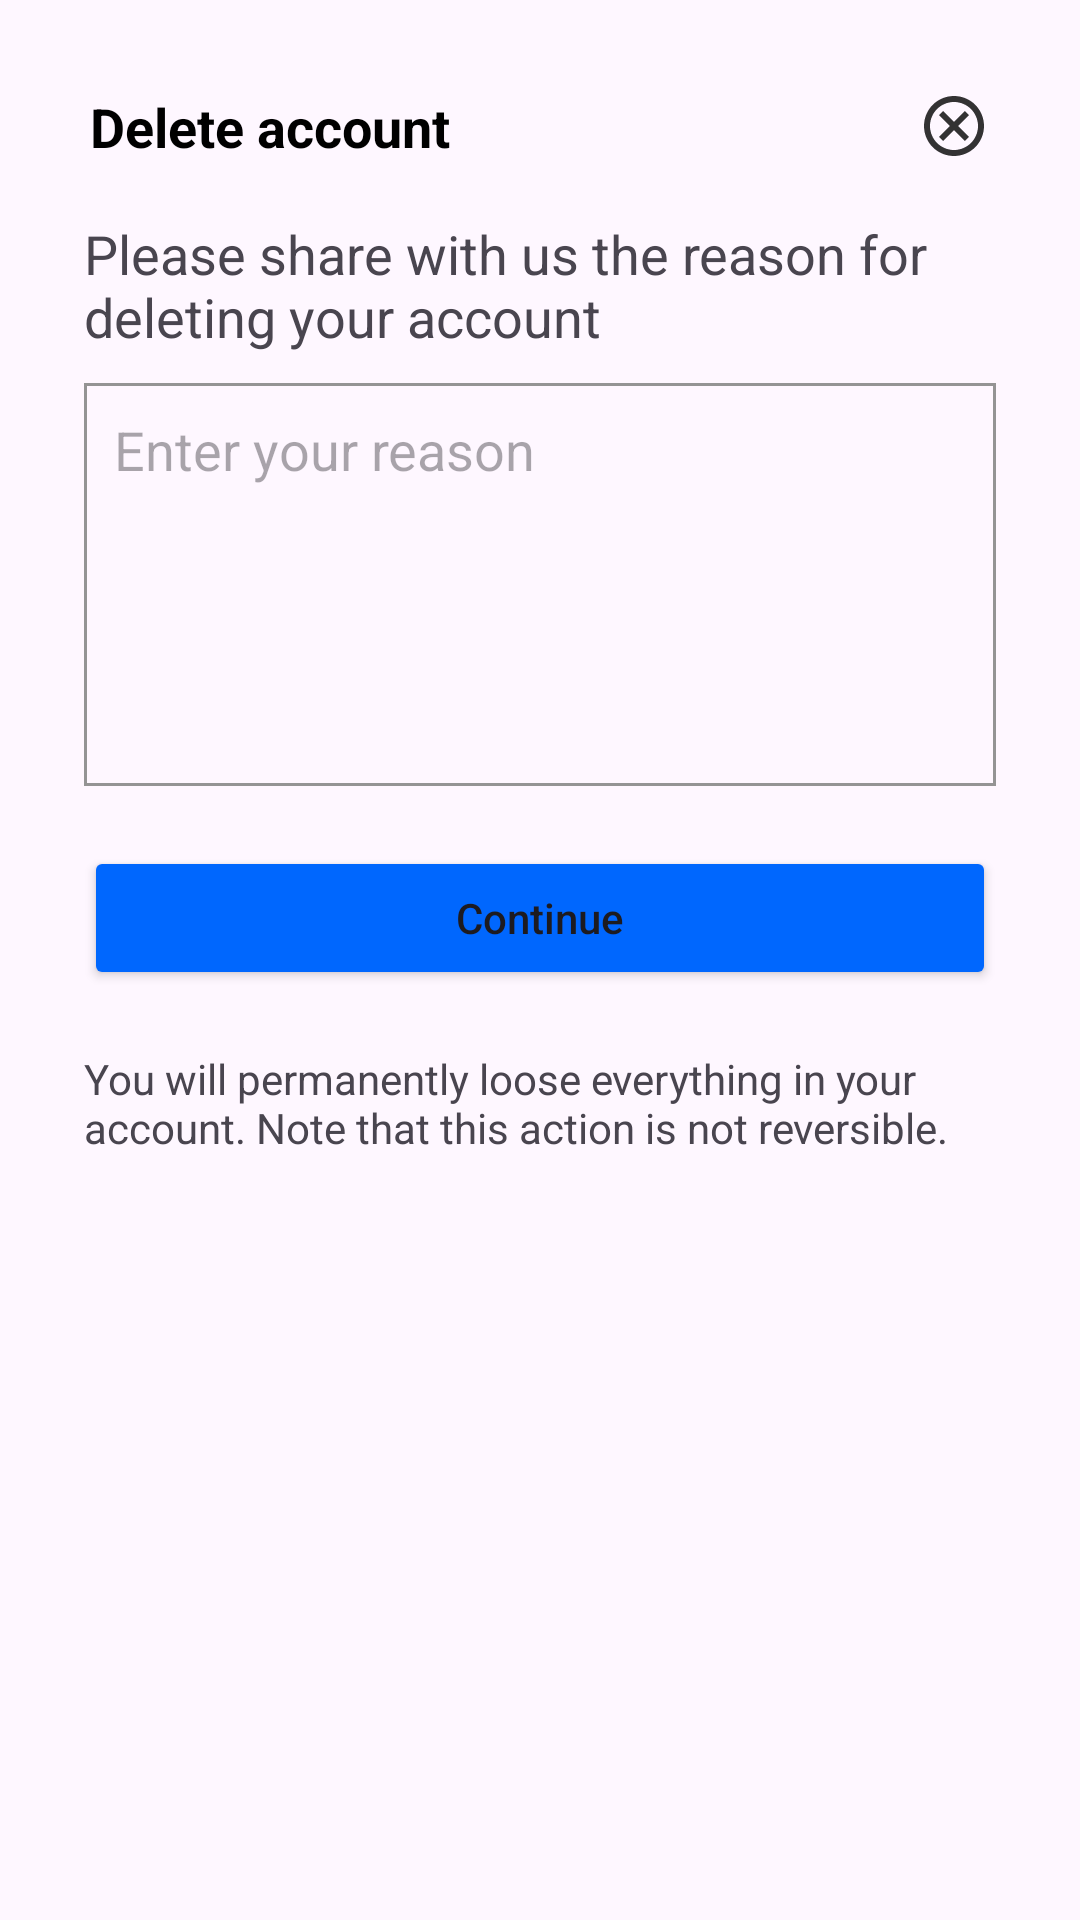

Locate icon controls on the screen. Image size 1080px x 1920px, boxes as [x1=x1, y1=y1, x2=x2, y2=y2].
cancel: [x1=924, y1=96, x2=984, y2=156]
